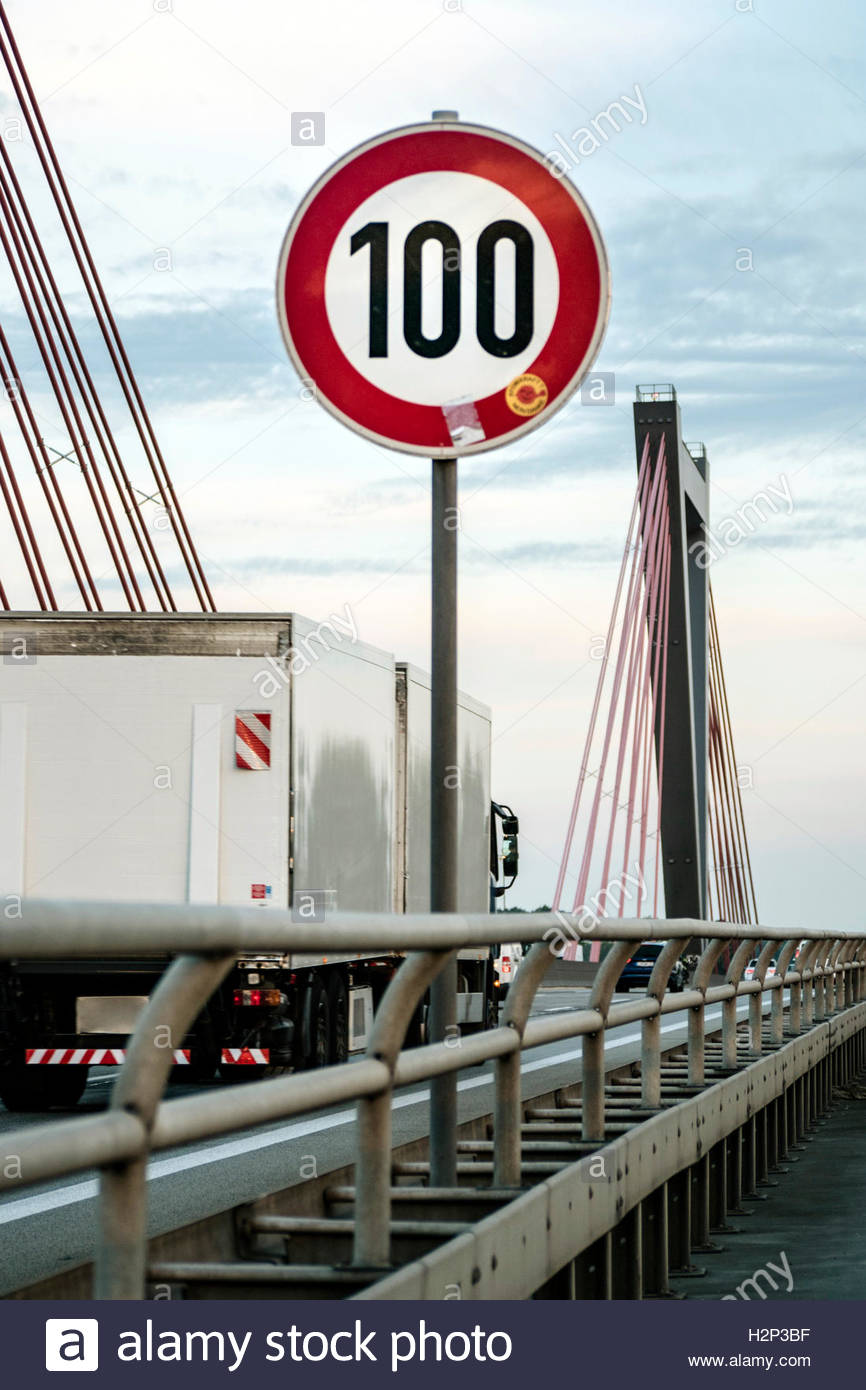Speed_limit_100km: (270, 122, 613, 460)
